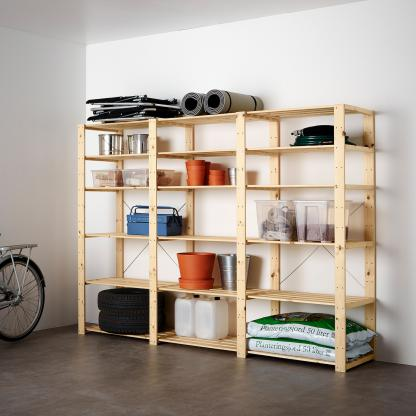lamp: (77, 103, 378, 376)
